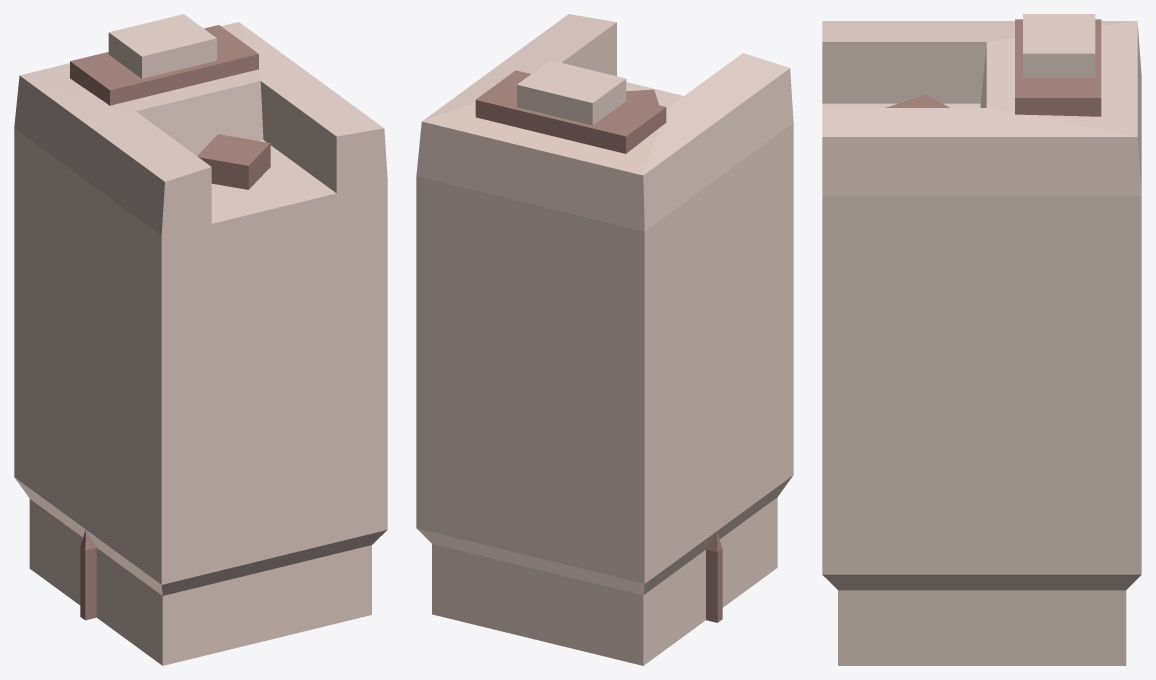
Rendered from Edificio004.FBX.
3 renders of one model, left to right at view 1: azimuth 30°, elevation 25°; view 2: azimuth 150°, elevation 25°; view 3: azimuth 270°, elevation 25°, orthographic. The views are drawn at different scales.
Visible parts, largest first — view 1: Edificio004; view 2: Edificio004; view 3: Edificio004.
Boxes of the visible parts, left/top/right/bottom form: Edificio004: left=14, top=14, right=387, bottom=665; Edificio004: left=416, top=14, right=793, bottom=665; Edificio004: left=822, top=14, right=1141, bottom=665.
Bounding box in the file's own units: 652 × 1444 × 727.
